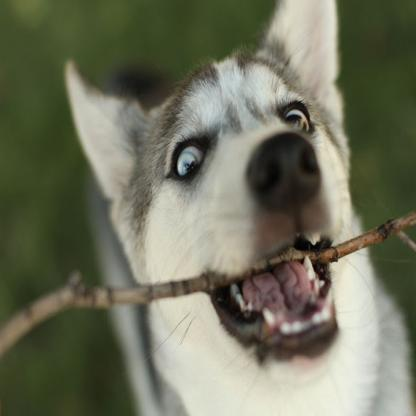husky: (56, 0, 408, 416)
